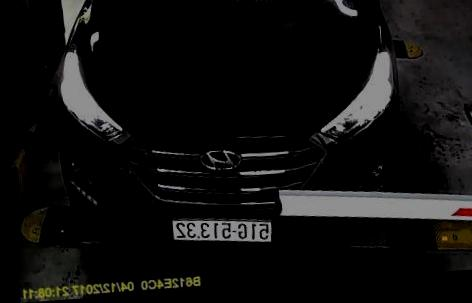License_Plate: (173, 212, 273, 248)
